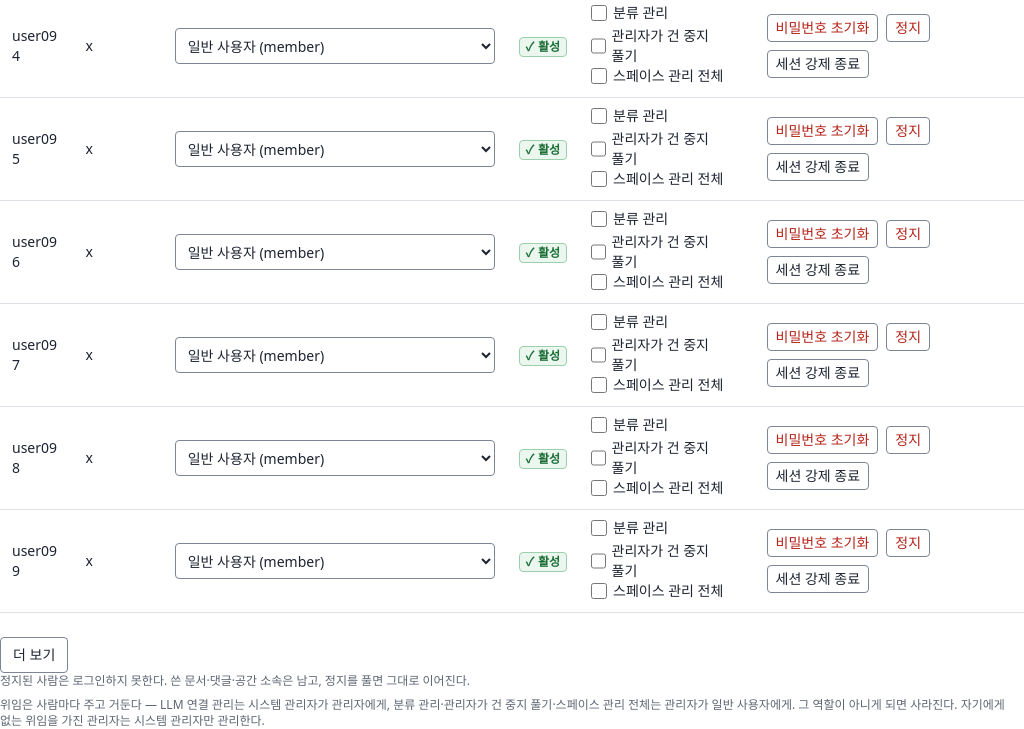
Scenario: AdminUsersPage — 찾기·거르기·더 보기 (P13 C.6, FR-1450~1452) › **조치 뒤에는 보던 만큼 다시 읽는다** — 처음 100명으로 돌아가 뒤쪽에서 정지한 사람이 화면에서 사라지지 않게 (병합 전 코드 리뷰 10)
(page scrolled)
Click the button "더 보기".
click(34, 655)  # box [0,637,68,673]
(page scrolled)
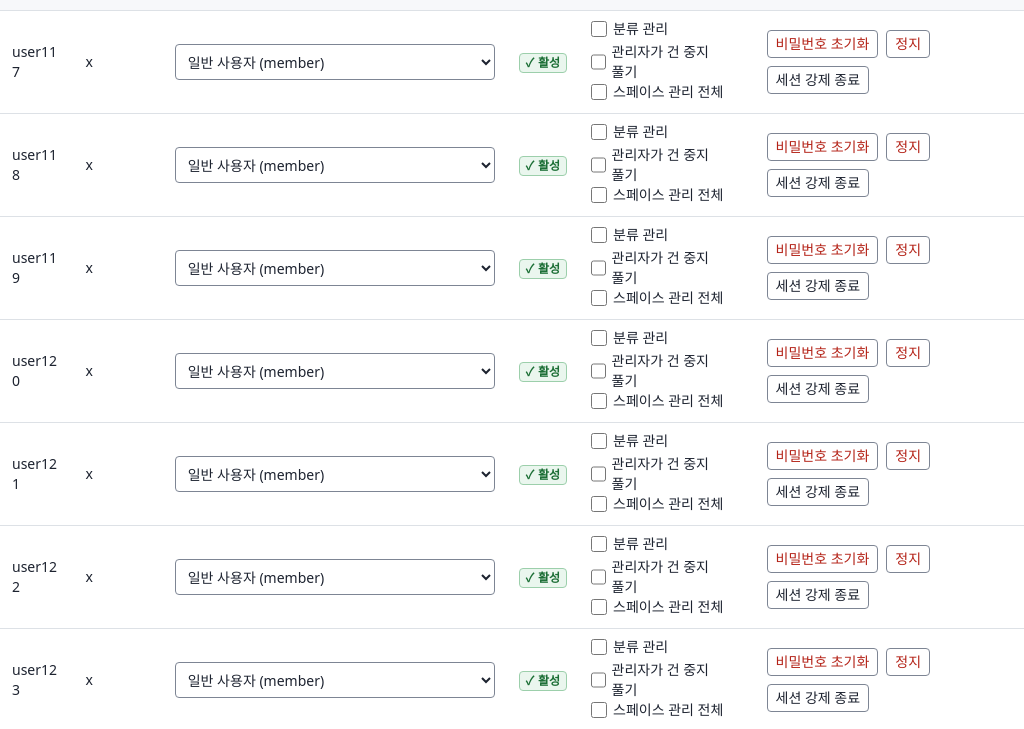
Check: the button "정지" in the row of "user120" is enabled
Click the button "정지" in the row of "user120".
click(908, 353)  # box [886,339,930,367]
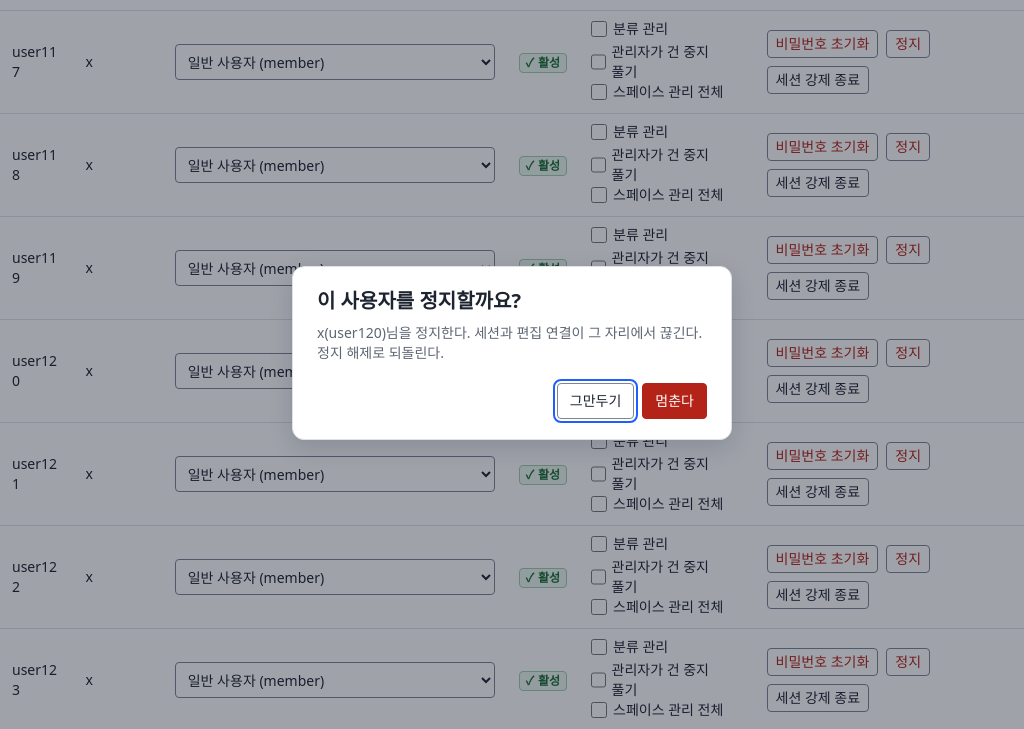
Click the button "멈춘다".
click(675, 401)  # box [642,383,707,419]
(page scrolled)
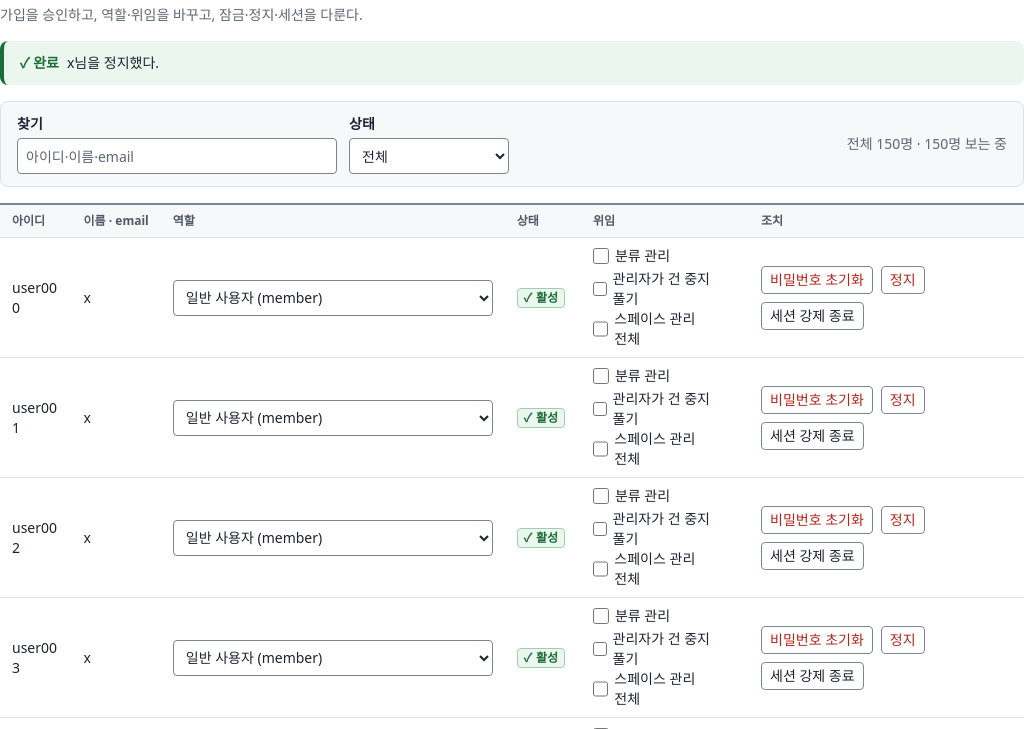
Check: the text "전체 150명 · 150명 보는 중" is shown, box [847,134,1007,154]
Check: the dialog is gone
